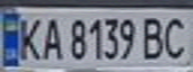1: (84, 15, 106, 60)
3: (103, 15, 121, 61)
8: (66, 15, 87, 61)
9: (118, 14, 142, 61)
A: (39, 14, 66, 61)
B: (139, 14, 172, 61)
C: (160, 12, 193, 61)
K: (15, 12, 45, 62)
